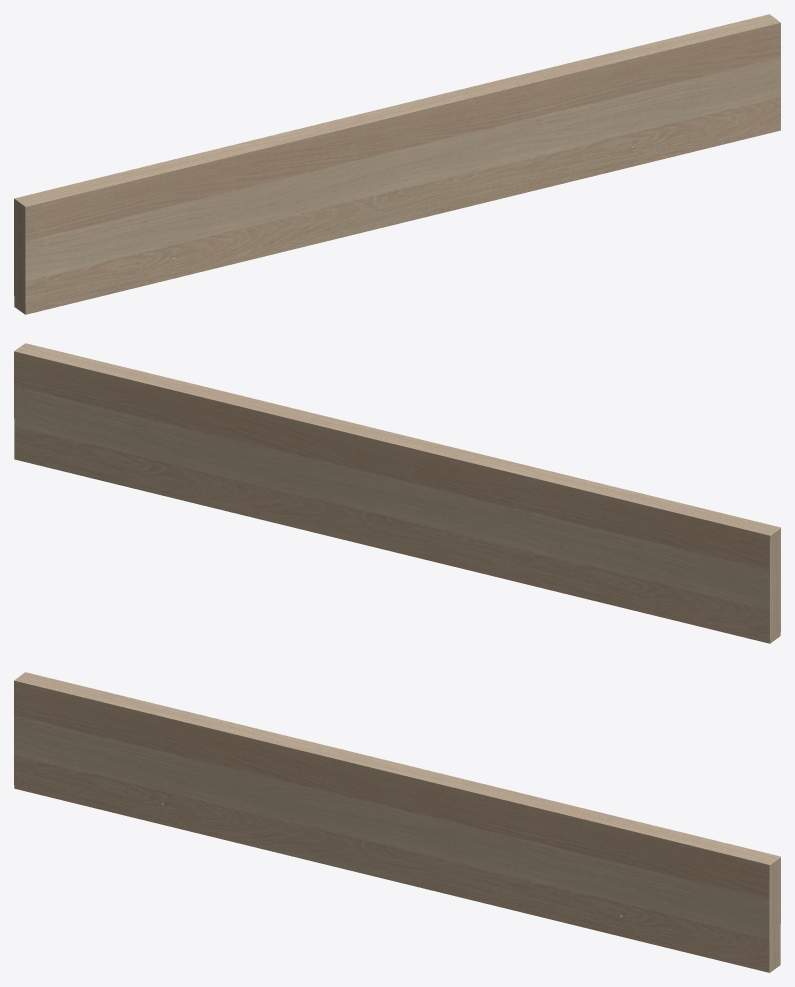
The picture shows the model from 3 angles, top to bottom: view 1: azimuth 30°, elevation 25°; view 2: azimuth 150°, elevation 25°; view 3: azimuth 330°, elevation 25°; orthographic projection.
Visible parts, largest first — view 1: 20383521-LACK001; view 2: 20383521-LACK001; view 3: 20383521-LACK001.
Part boxes in pixels (x1,y1,x2,y2): 20383521-LACK001: (14, 14, 780, 314); 20383521-LACK001: (14, 343, 780, 643); 20383521-LACK001: (14, 672, 780, 972).
Size of the model in its own units: 1.9 by 0.2603 by 0.0491.
1 material, 1 textured.
